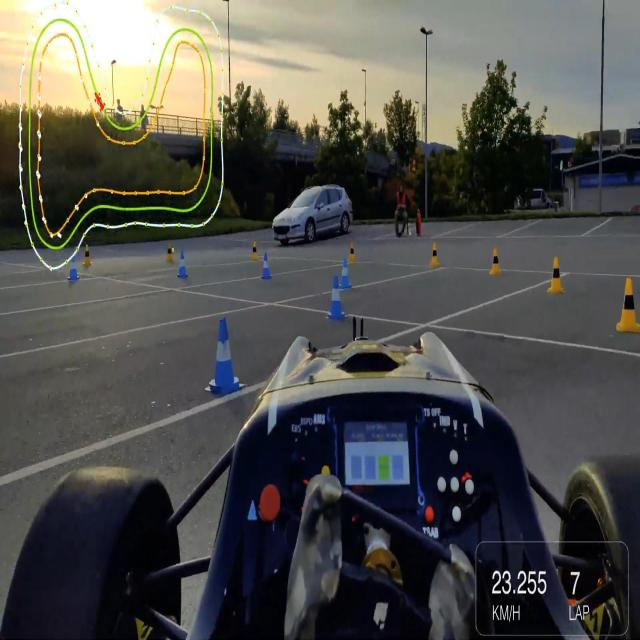blue_cone: (207, 316, 240, 402), (329, 274, 348, 321), (339, 258, 355, 292), (66, 254, 80, 282), (259, 253, 272, 283), (177, 252, 188, 280)
yellow_cone: (618, 276, 640, 336), (546, 252, 566, 295), (488, 248, 502, 278), (430, 242, 442, 270), (82, 246, 95, 269), (164, 243, 176, 267), (250, 240, 260, 260), (348, 244, 357, 266)
